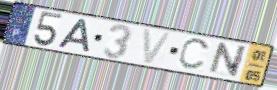3: (102, 23, 135, 62)
5: (32, 10, 65, 48)
A: (56, 17, 91, 55)
C: (176, 38, 212, 72)
N: (206, 41, 250, 79)
V: (142, 28, 175, 66)
